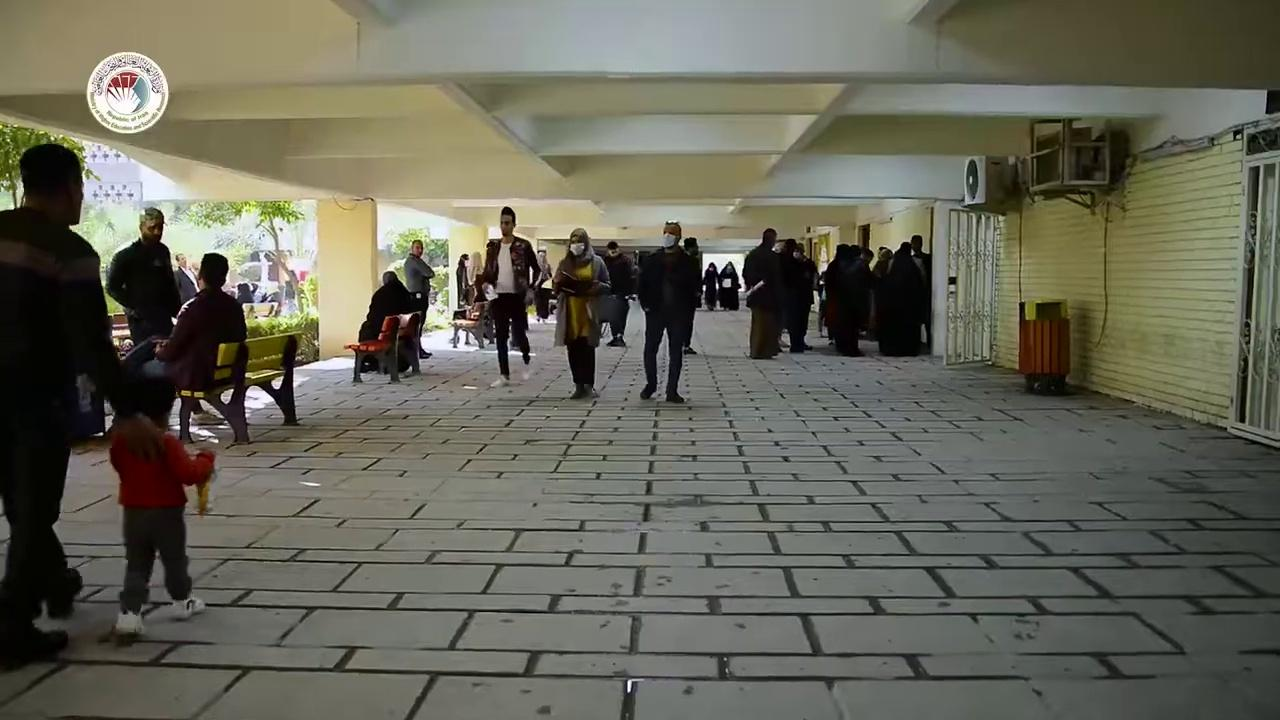car: (224, 261, 299, 316)
person: (0, 142, 161, 668), (106, 373, 216, 643), (150, 252, 249, 446), (636, 224, 702, 403), (478, 206, 541, 387), (105, 206, 182, 346), (551, 227, 611, 399), (355, 270, 420, 377), (815, 241, 881, 346), (867, 241, 926, 351), (746, 231, 794, 353), (770, 241, 809, 351), (403, 239, 435, 359), (602, 240, 634, 346), (532, 248, 552, 323), (173, 253, 198, 305)
tree: (0, 121, 137, 315), (181, 198, 307, 312), (0, 121, 101, 209), (181, 198, 305, 255), (384, 225, 449, 328), (253, 199, 305, 312), (386, 225, 448, 267)
